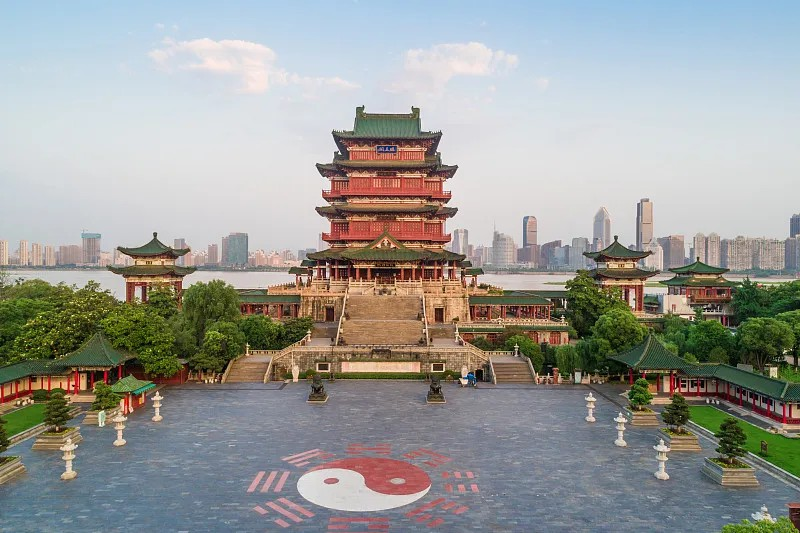Teng: (289, 106, 485, 291)
